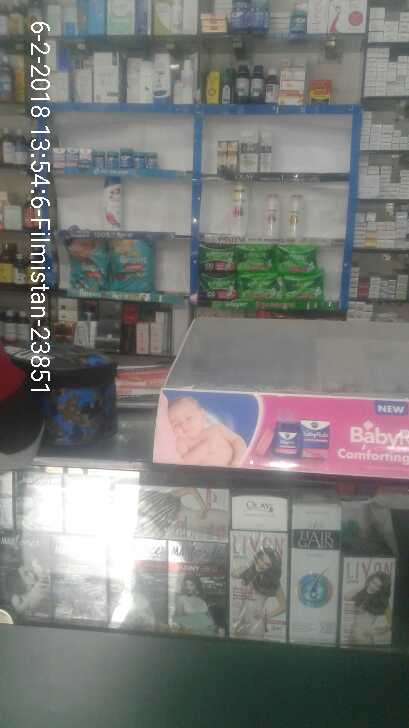vicks: (54, 141, 157, 174)
